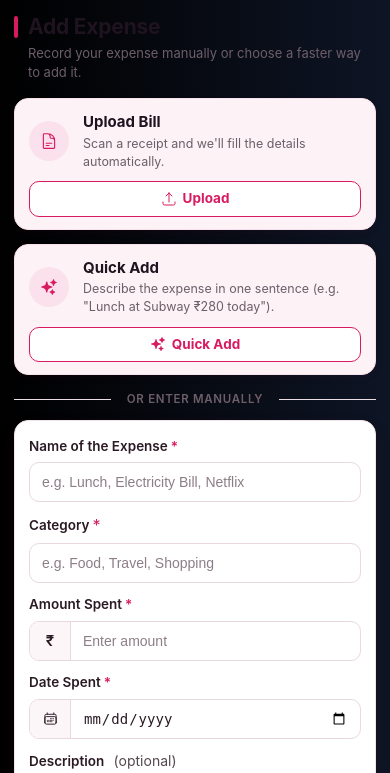
Test: AddExpense -- abstained ML predictions shown as a suggestion (ML-003-T04) › typing a category manually while abstained dismisses the suggestion without adopting it
Type "Some New Merchant" into the field labelled "Name of the Expense*" at [195, 482], box [29, 462, 361, 502]
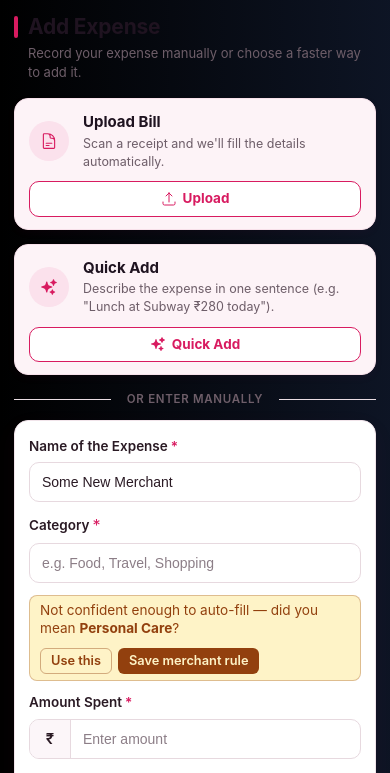
Expected: the text "did you mean" is shown, [40, 602, 318, 636]
Type "Travel" into the field labelled "Category" at [195, 564], box [29, 544, 361, 584]
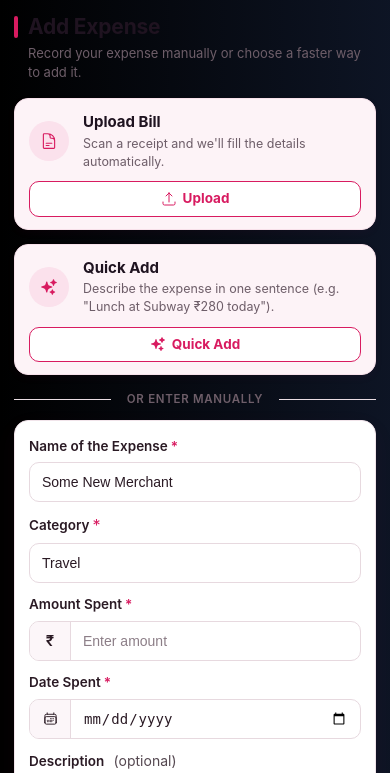
Expected: the text "did you mean" is gone
